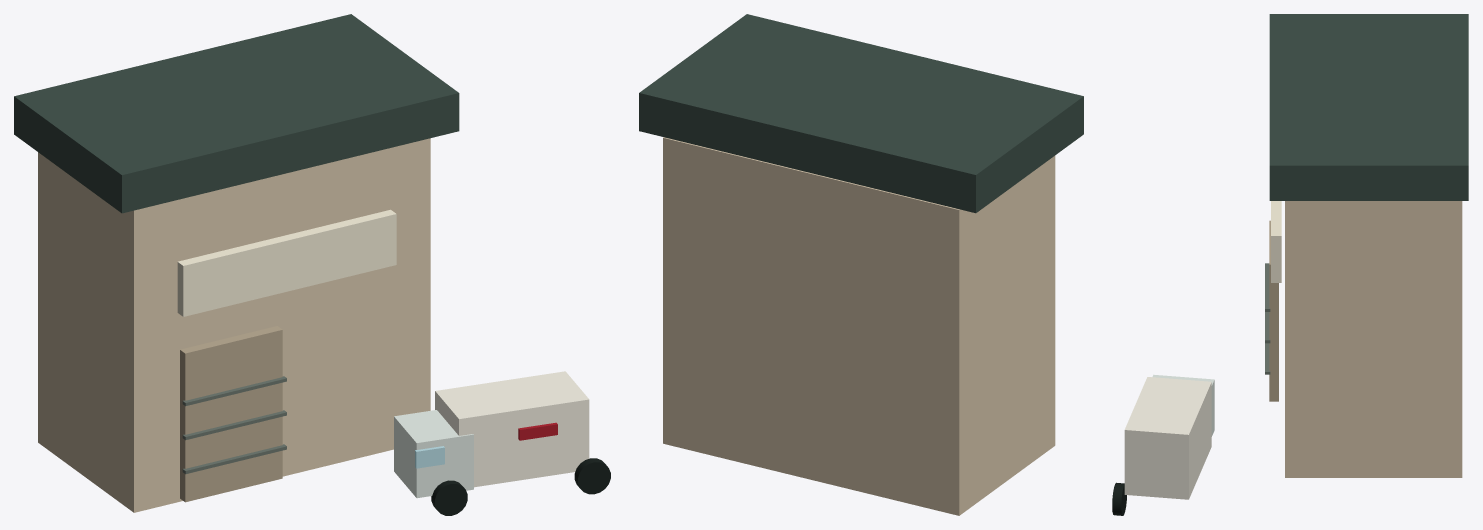
Rendered from depot_warehouse.glb.
3 renders of one model, left to right at view 1: azimuth 30°, elevation 25°; view 2: azimuth 150°, elevation 25°; view 3: azimuth 270°, elevation 25°, orthographic. The views are drawn at different scales.
Parts seen in each view (by area): view 1: body, roof, shutter, sign, cargo, cab, wheel_0.42, wheel_-0.48; view 2: body, roof; view 3: body, roof, cargo, shutter, sign, wheel_0.42.
Part boxes in pixels (x1=…): body: x1=38, y1=138, x2=430, y2=512; roof: x1=14, y1=14, x2=459, y2=213; shutter: x1=180, y1=326, x2=282, y2=502; sign: x1=177, y1=209, x2=396, y2=316; cargo: x1=435, y1=371, x2=589, y2=487; cab: x1=394, y1=410, x2=473, y2=498; wheel_0.42: x1=574, y1=458, x2=610, y2=494; wheel_-0.48: x1=431, y1=480, x2=467, y2=515; body: x1=663, y1=137, x2=1055, y2=515; roof: x1=639, y1=14, x2=1083, y2=213; body: x1=1285, y1=201, x2=1462, y2=477; roof: x1=1269, y1=14, x2=1468, y2=200; cargo: x1=1124, y1=377, x2=1211, y2=499; shutter: x1=1269, y1=220, x2=1278, y2=401; sign: x1=1271, y1=201, x2=1281, y2=282; wheel_0.42: x1=1112, y1=482, x2=1126, y2=515.
Size of the model in its own units: 1.99 by 1.66 by 1.65.
